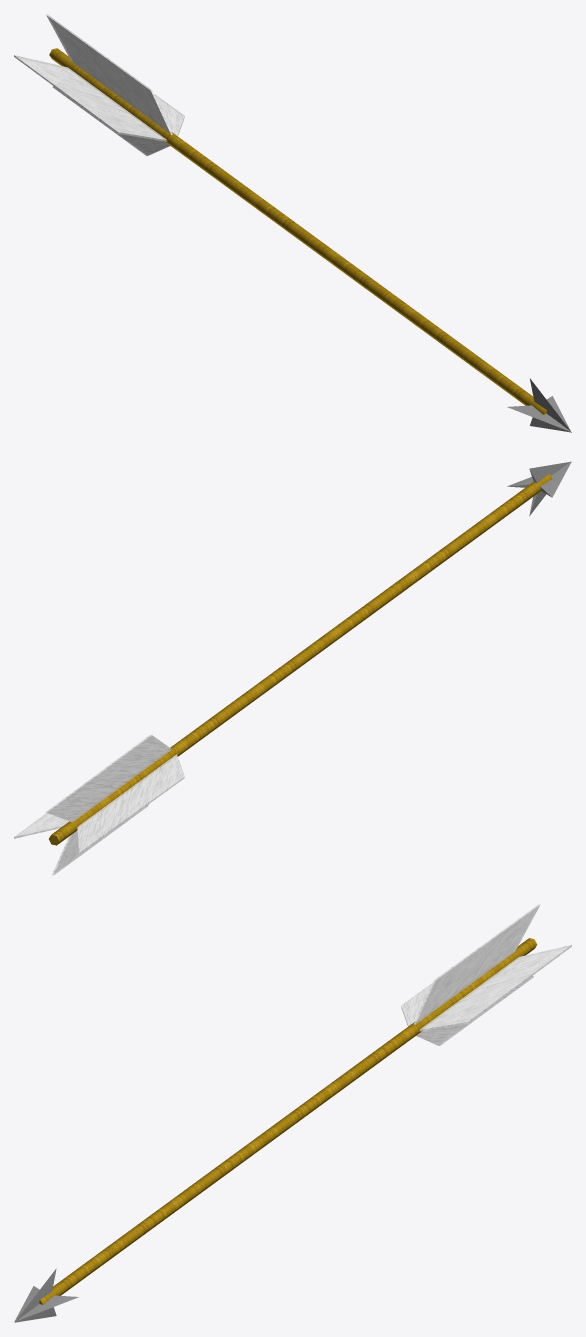
The model's file is arrow.FBX.
3 renders of one model, top to bottom at view 1: azimuth 30°, elevation 25°; view 2: azimuth 150°, elevation 25°; view 3: azimuth 330°, elevation 25°, orthographic.
Parts seen in each view (by area): view 1: m_shaft, m_tfeather, m_lfeather, m_bfeather, m_vbroadhead, m_hbroadhead; view 2: m_shaft, m_tfeather, m_lfeather, m_bfeather, m_rfeather, m_vbroadhead, m_hbroadhead; view 3: m_shaft, m_tfeather, m_rfeather, m_bfeather, m_vbroadhead, m_hbroadhead, m_lfeather.
Part boxes in pixels (x1,y1,x2,y2): m_shaft: (49,48,546,414); m_tfeather: (46,14,172,134); m_lfeather: (14,55,167,141); m_bfeather: (52,86,169,155); m_vbroadhead: (530,378,571,432); m_hbroadhead: (507,396,570,431); m_shaft: (49,474,552,845); m_tfeather: (45,734,171,822); m_lfeather: (77,754,184,854); m_bfeather: (52,804,148,875); m_rfeather: (14,813,68,838); m_vbroadhead: (529,461,570,516); m_hbroadhead: (507,461,571,497); m_shaft: (39,938,537,1304); m_tfeather: (413,904,539,1024); m_rfeather: (419,945,571,1031); m_bfeather: (416,976,533,1045); m_vbroadhead: (15,1268,56,1322); m_hbroadhead: (14,1286,78,1321); m_lfeather: (401,983,432,1026).
Bounding box in the file's own units: 0.025 × 0.0245 × 0.3405.
3 materials, 2 textured.
